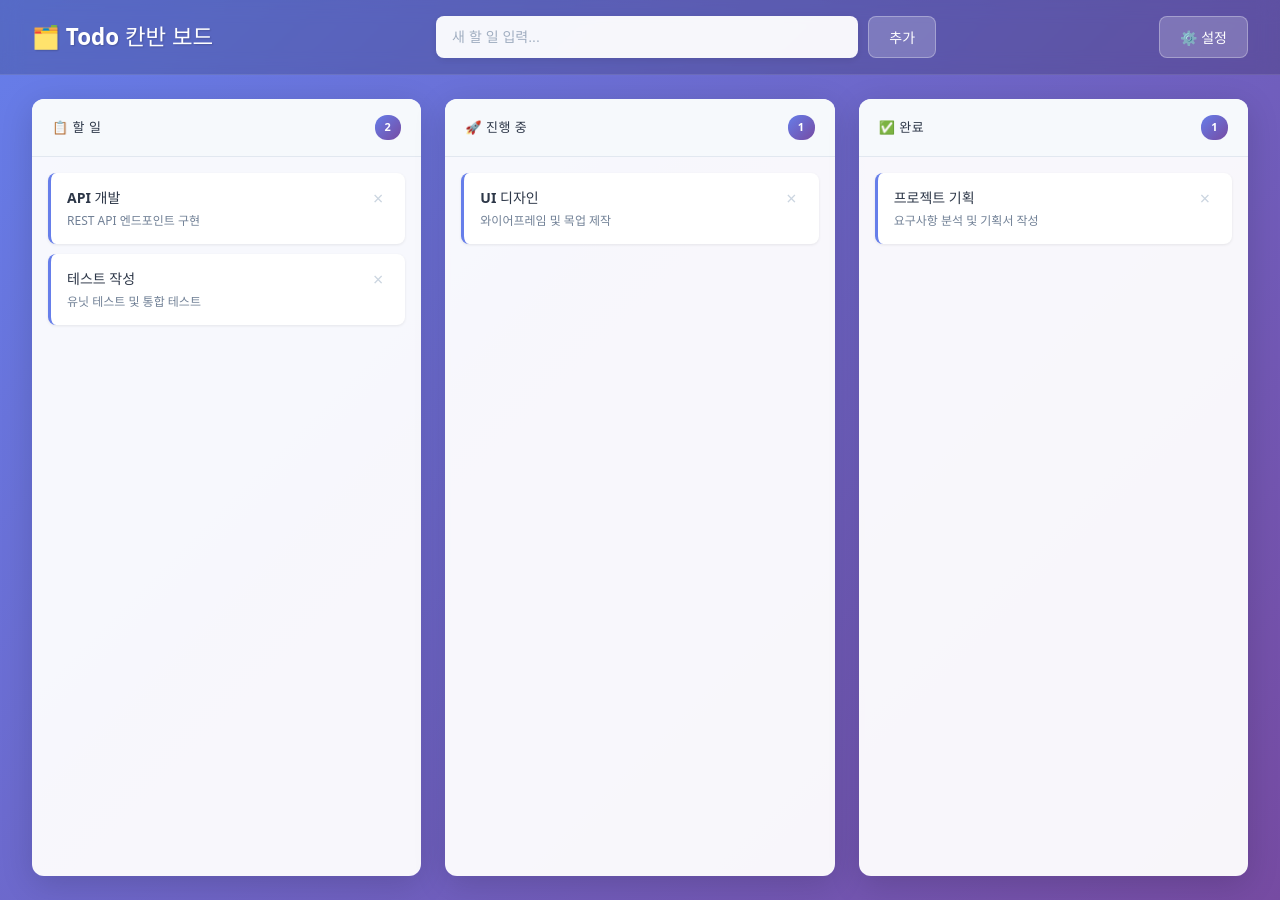
it: Settings Feature › should close modal when close button is clicked
The image size is (1280, 900).
Click the button "⚙️ 설정" at (1204, 37), box [1159,16,1248,58]
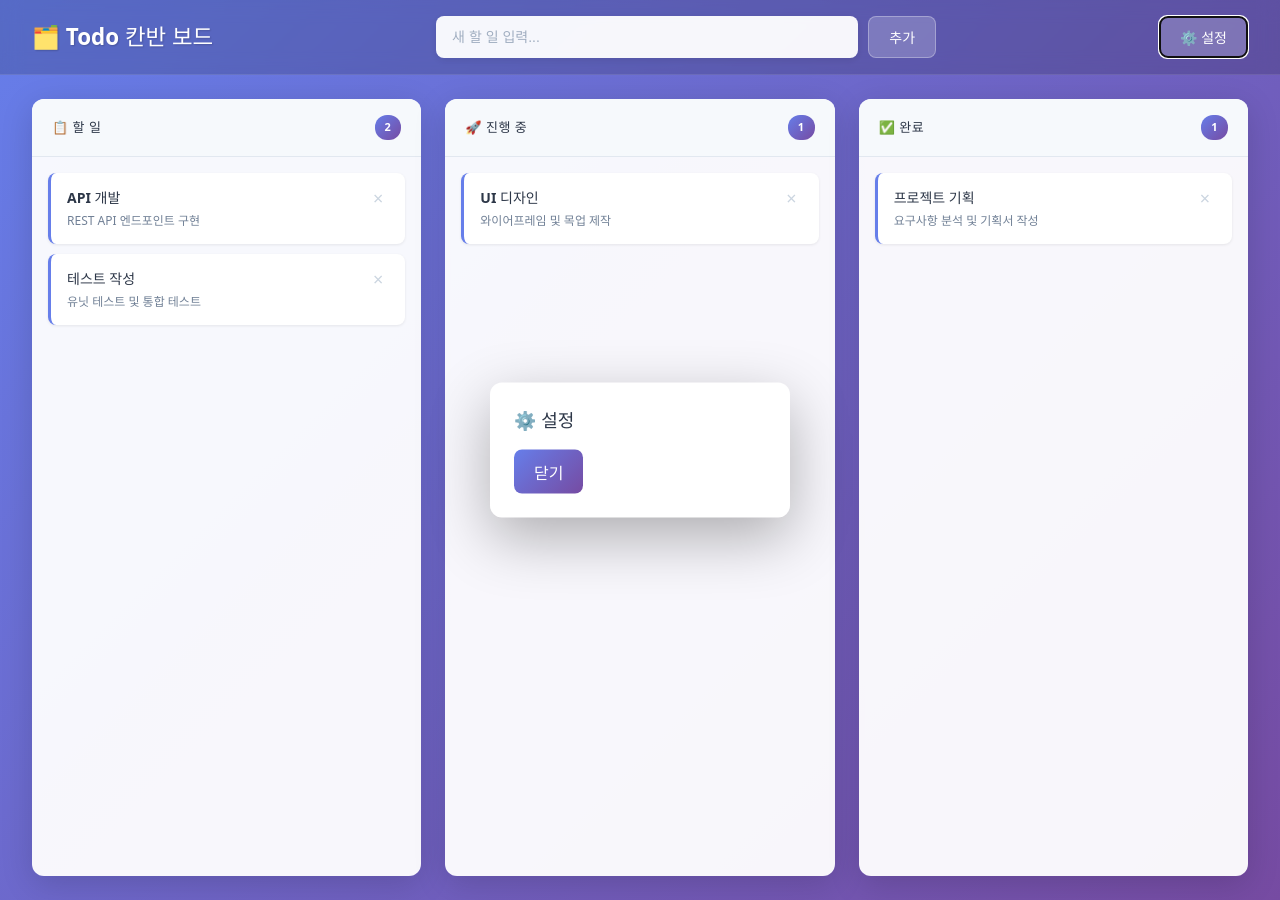
Check: the dialog is shown, box [490,382,790,518]
Click the button "닫기" at (549, 472), box [514,450,584,494]
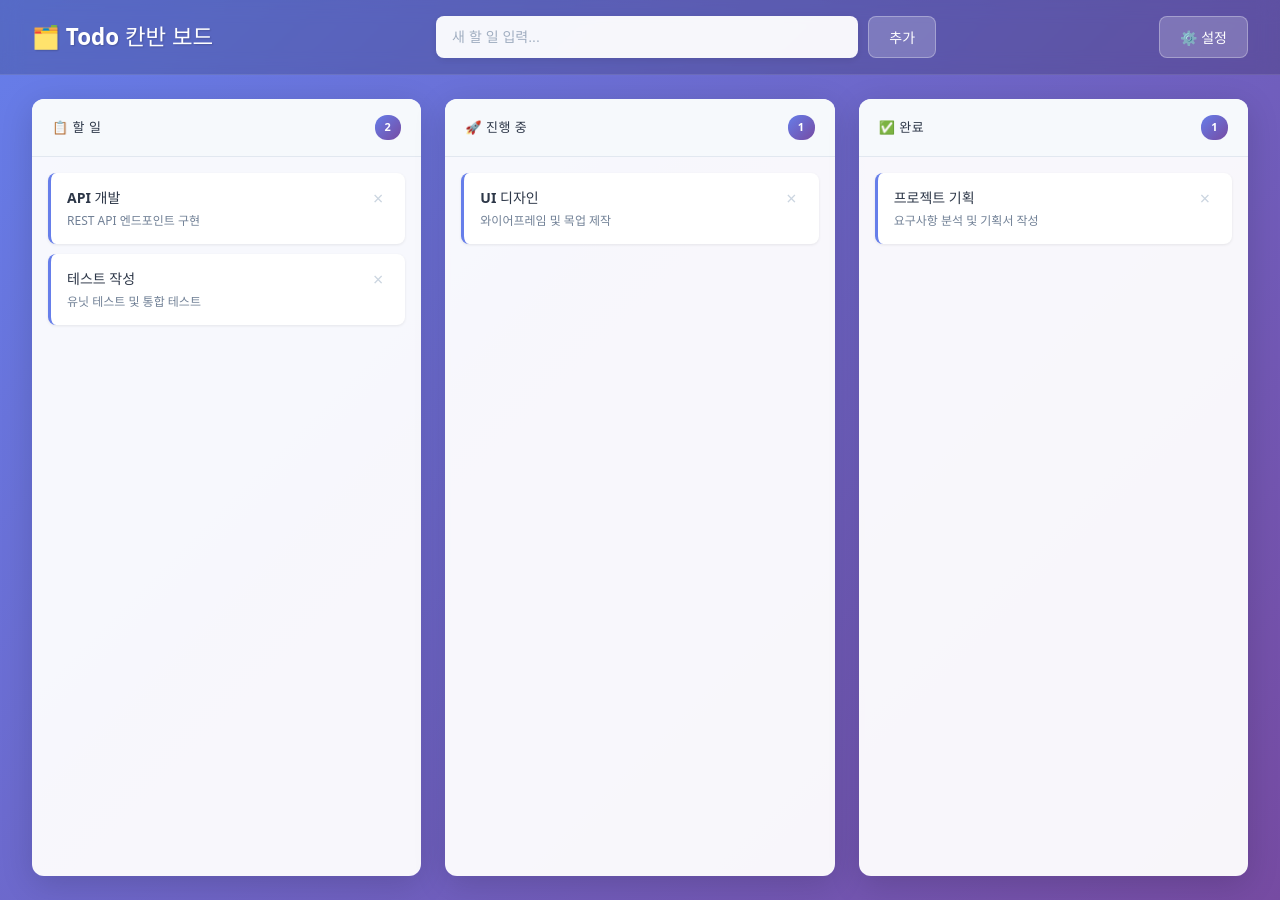
Check: the dialog is gone
